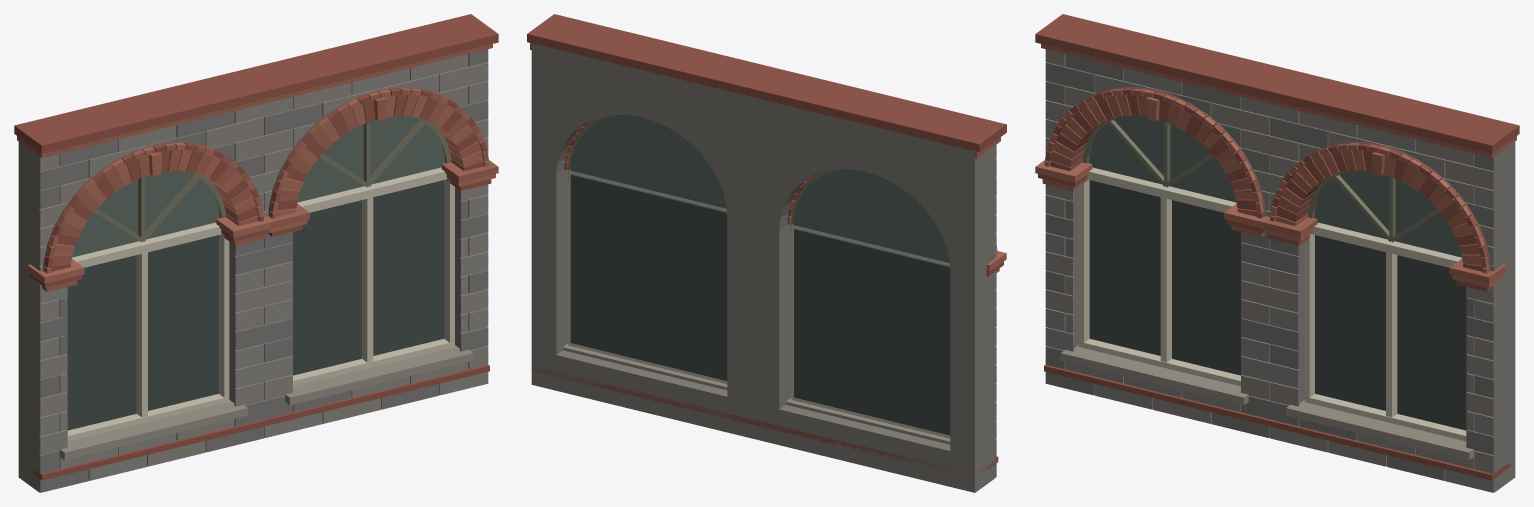
Rendered from hongkou-yangshupu-213-paired-fanlights-lod.glb.
The picture shows the model from 3 angles, left to right: view 1: azimuth 30°, elevation 25°; view 2: azimuth 150°, elevation 25°; view 3: azimuth 330°, elevation 25°; orthographic projection.
Parts seen in each view (by area): view 1: 杨树浦路213号门侧二层双券扇窗; view 2: 杨树浦路213号门侧二层双券扇窗; view 3: 杨树浦路213号门侧二层双券扇窗.
Part boxes in pixels (left/top/right/bottom): 杨树浦路213号门侧二层双券扇窗: left=14, top=14, right=498, bottom=492; 杨树浦路213号门侧二层双券扇窗: left=527, top=14, right=1006, bottom=492; 杨树浦路213号门侧二层双券扇窗: left=1035, top=14, right=1519, bottom=492.
Size of the model in its own units: 3.29 by 2.43 by 0.359.
